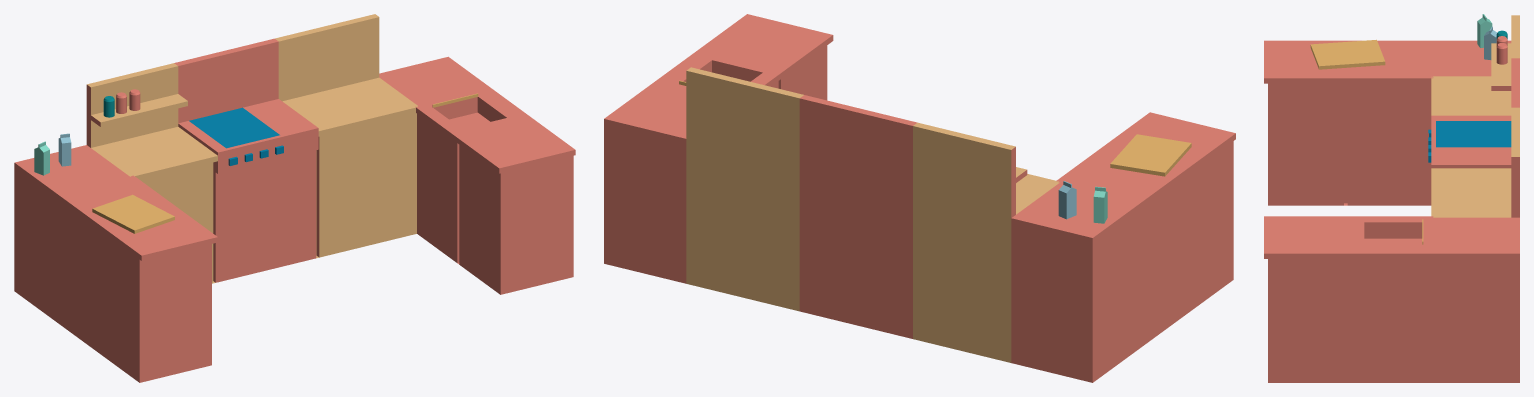
Rendered from OutdoorKitchen.fbx.
The picture shows the model from 3 angles, left to right: view 1: azimuth 30°, elevation 25°; view 2: azimuth 150°, elevation 25°; view 3: azimuth 270°, elevation 25°; orthographic projection. The views are drawn at different scales.
Parts seen in each view (by area): view 1: OutdoorKitchen; view 2: OutdoorKitchen; view 3: OutdoorKitchen.
Part boxes in pixels (bbox=[...]): OutdoorKitchen: bbox=[14, 14, 575, 382]; OutdoorKitchen: bbox=[604, 14, 1235, 382]; OutdoorKitchen: bbox=[1264, 14, 1519, 382].
Bounding box in the file's own units: 287 × 120 × 146.
